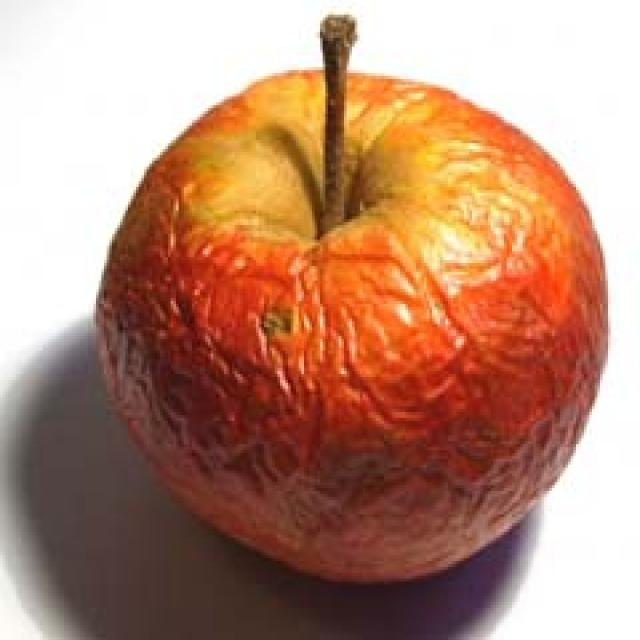overripe: (92, 64, 613, 590)
